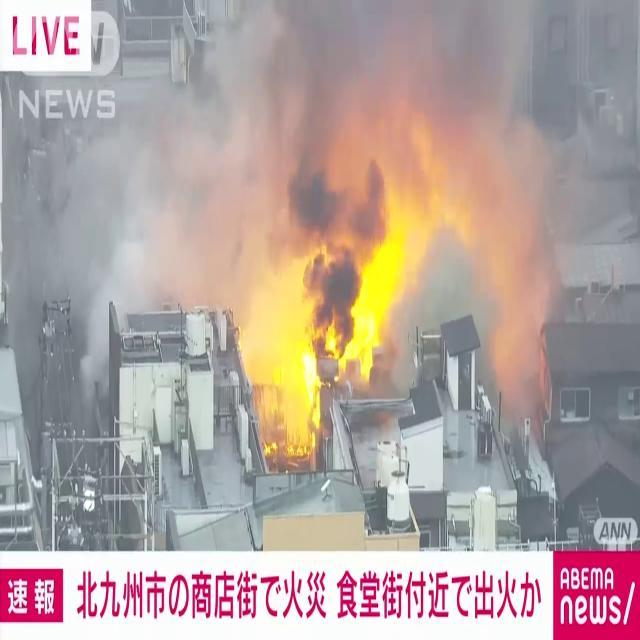Fire: (242, 110, 414, 449)
Smoke: (83, 0, 350, 347), (411, 0, 575, 373)
